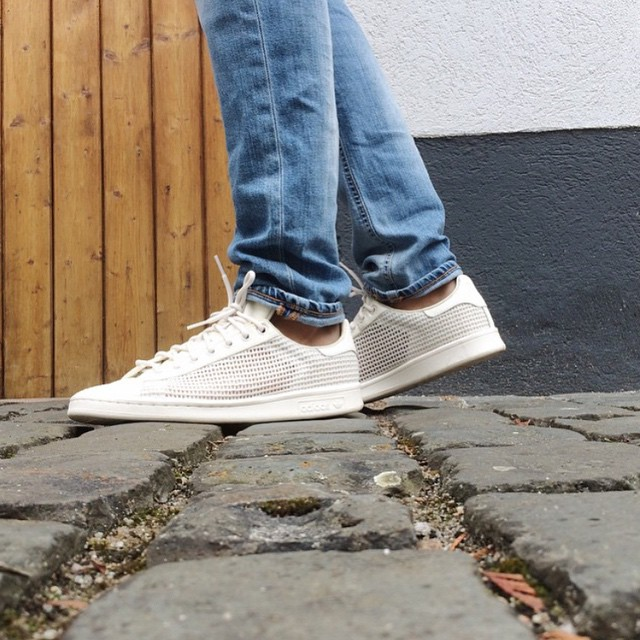sneaker: (49, 251, 386, 449), (322, 265, 517, 412)
